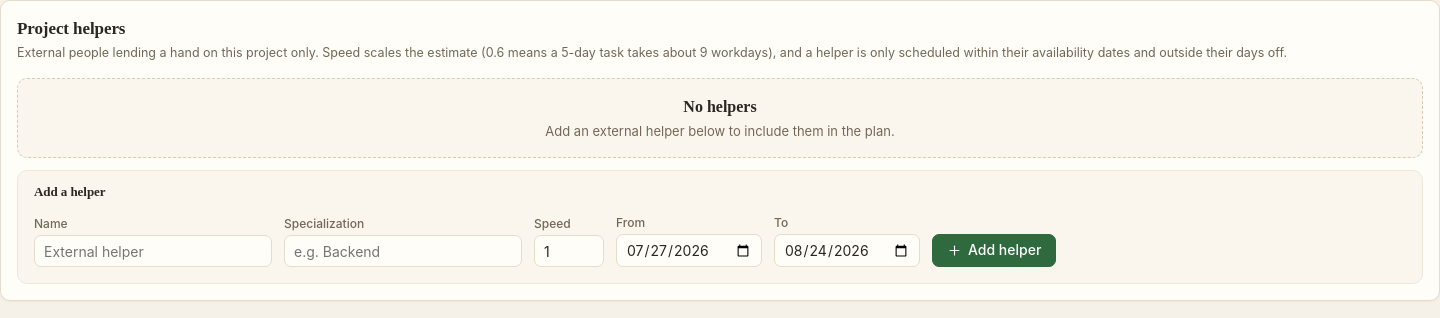
HelpersPanel › edits a helper's speed in place and can remove it
Type "Contractor" into the field labelled "Name" at x=153, y=251, box left=34, top=235, right=272, bottom=267
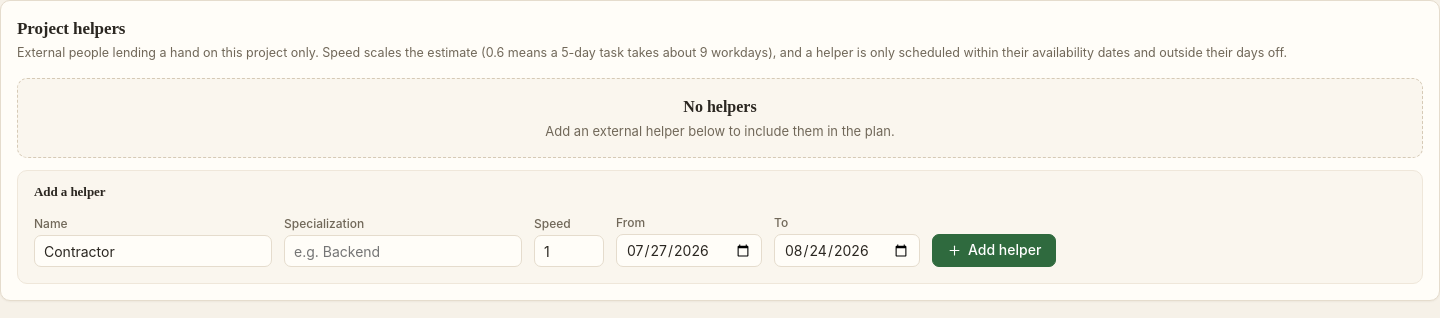
Click the button "Add helper" at x=994, y=251, box left=932, top=234, right=1056, bottom=267
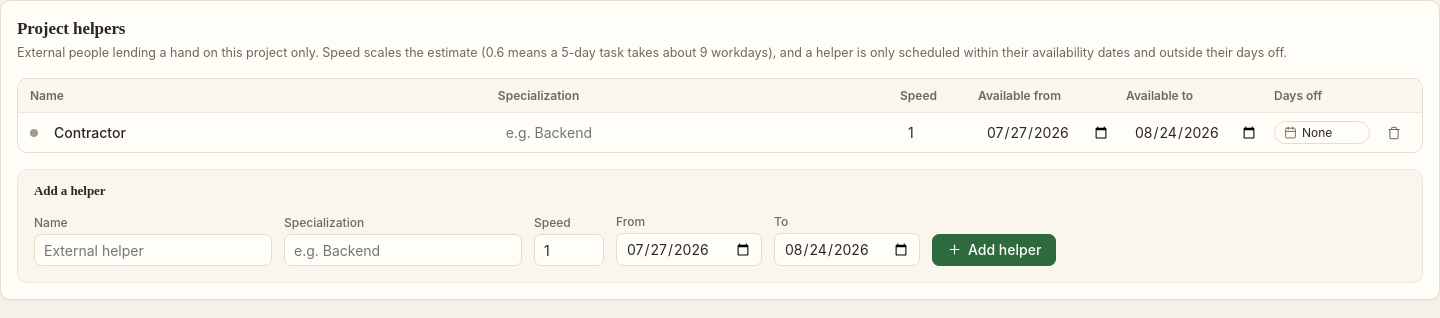
Replace the text in the number field named "Helper speed" with "0.8" at x=932, y=133, box left=900, top=119, right=964, bottom=147
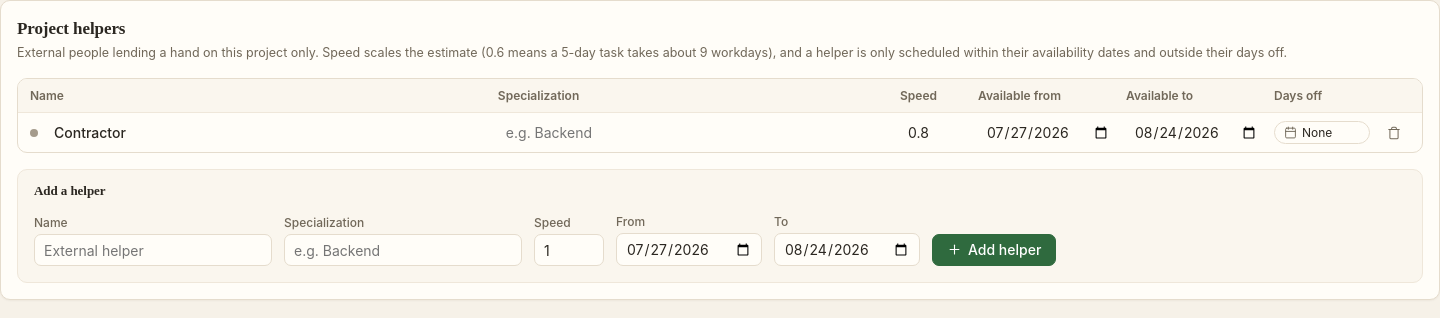
Click the button named "Remove Contractor" at x=1394, y=133, box left=1378, top=119, right=1410, bottom=147
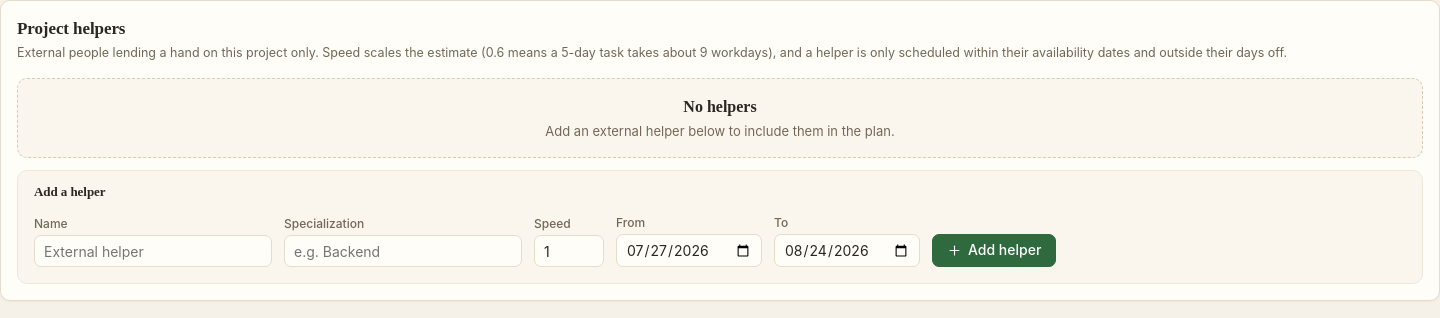
Expected: the text "No helpers" is shown, left=683, top=98, right=757, bottom=115
